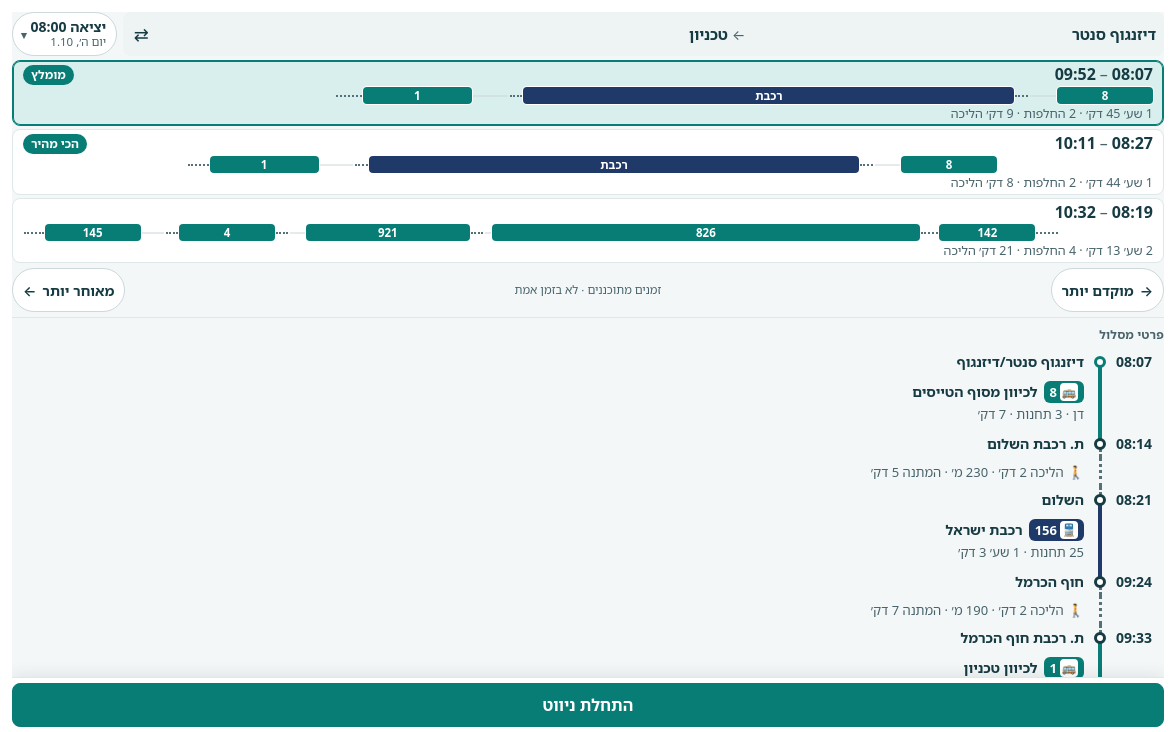
Test case: Compare (Hebrew) › swaps the details and the map when another option is tapped, without a request
Click the button that starts with "הכי מהיר" at [588, 162], box [12,129,1164,195]
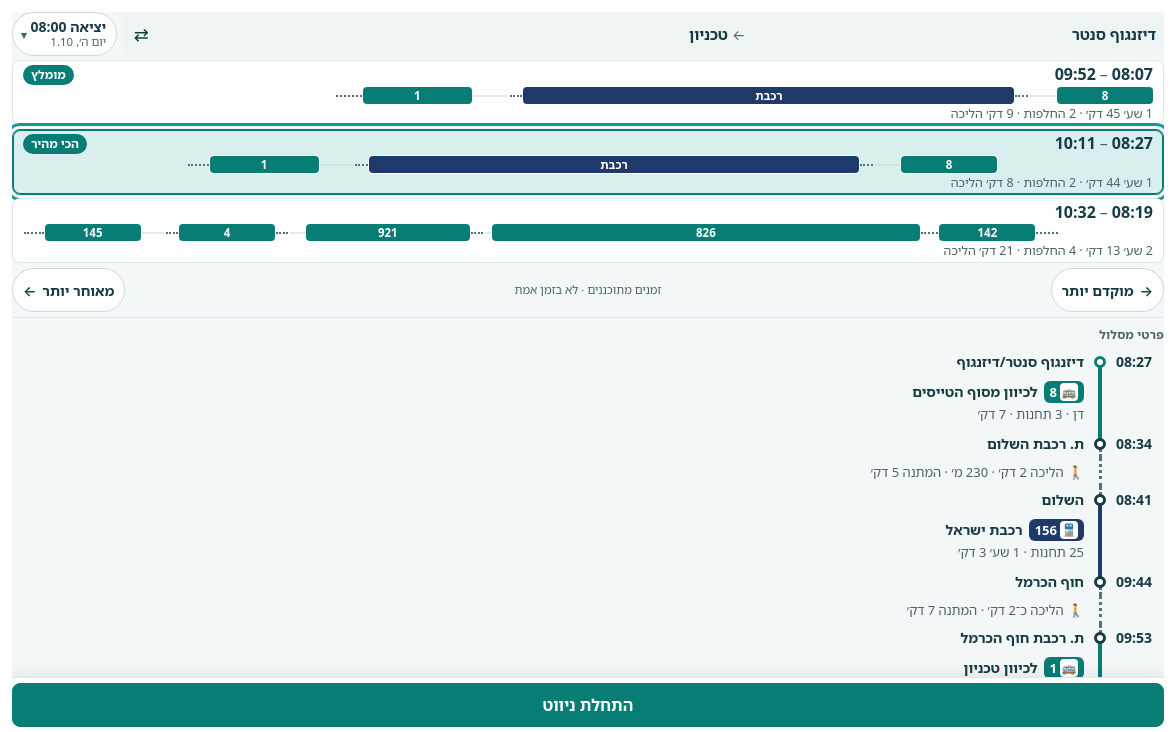
Expected: the text "הליכה כ־2 דק׳" is shown, [988,601,1064,619]
